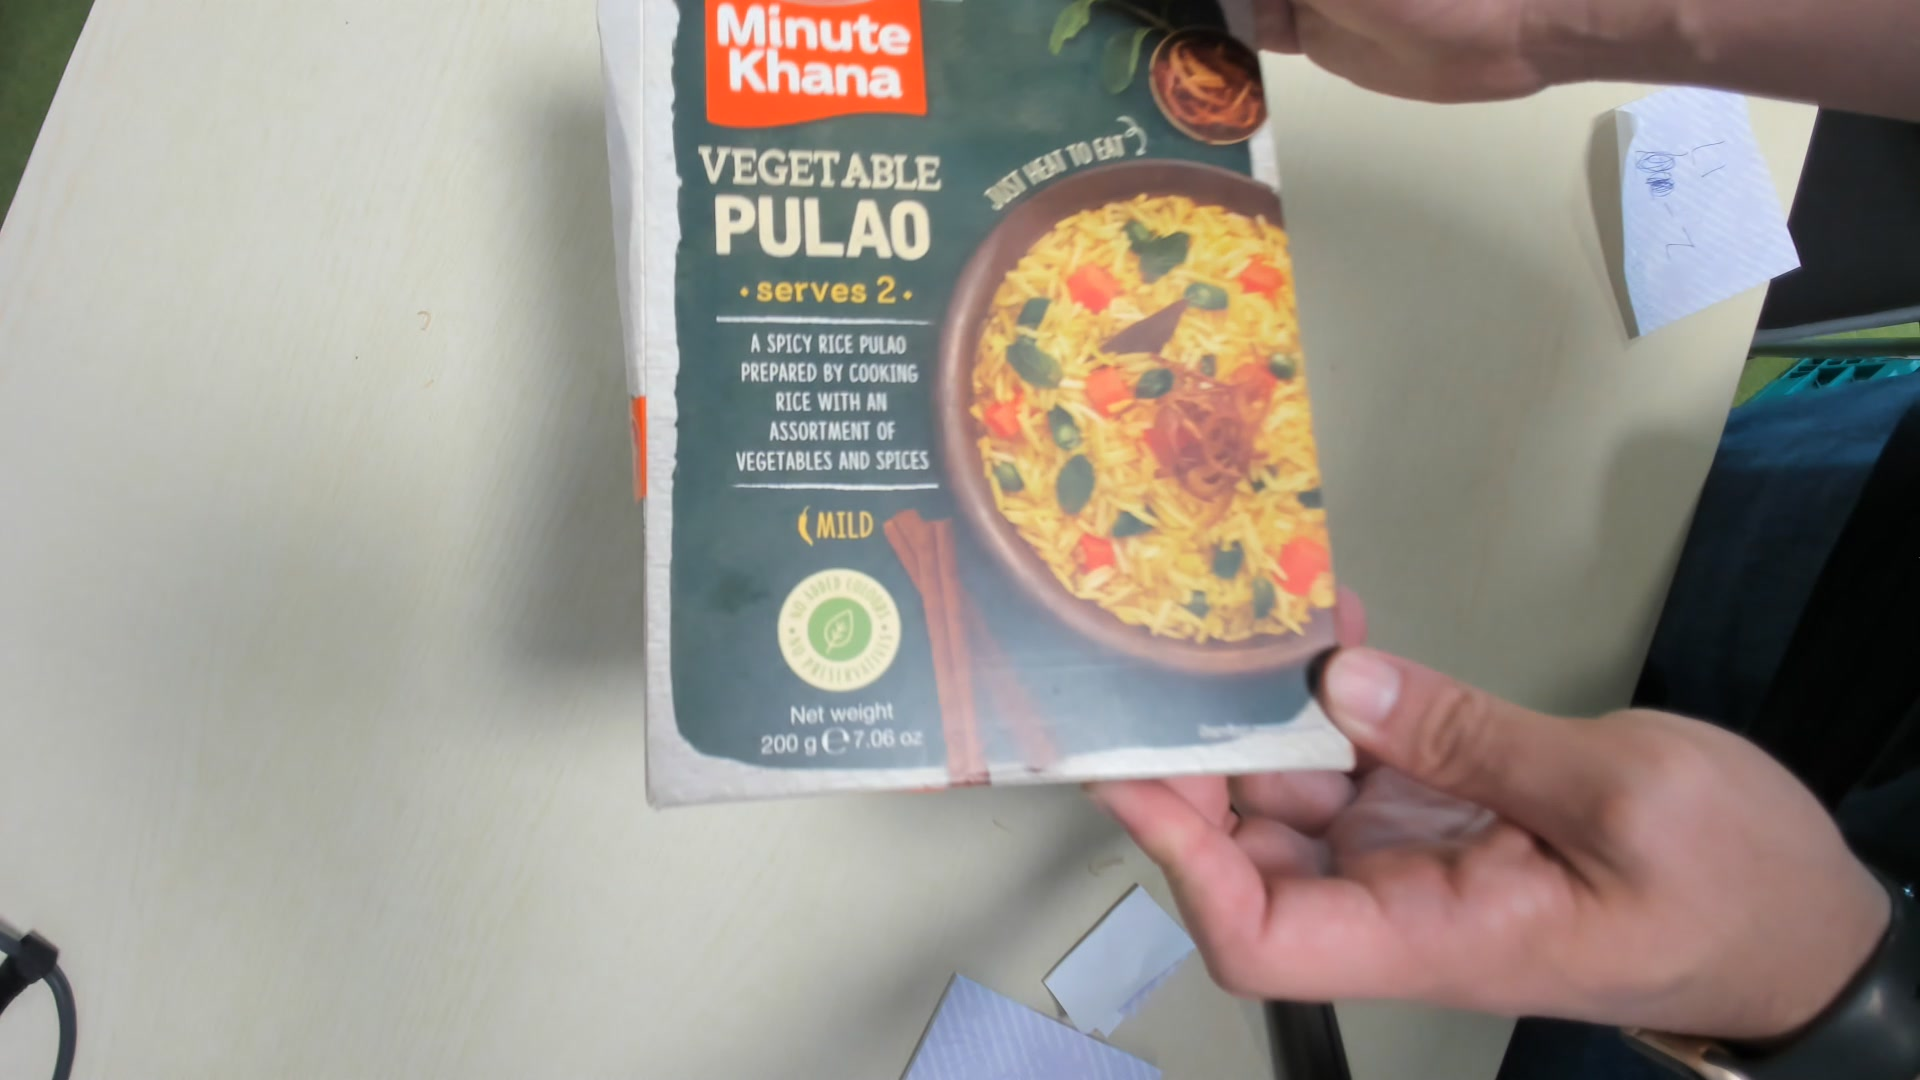InstantMeals_200_299g_NonHalal_NonHealthy: (603, 13, 1360, 798)
